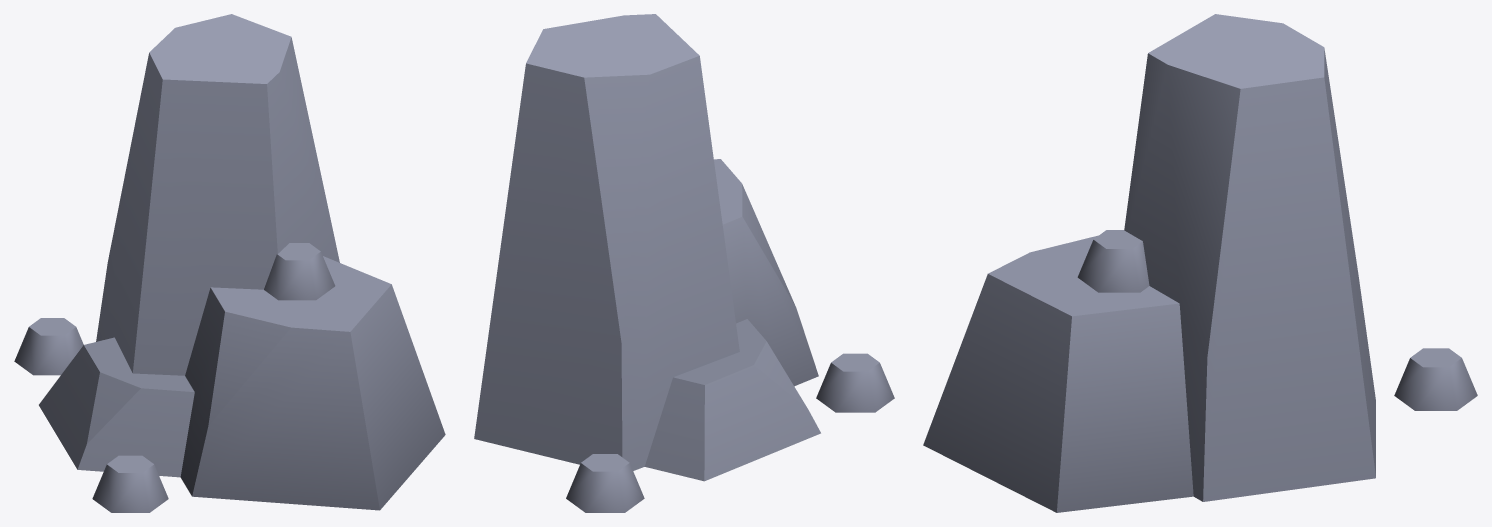
File: rock.glb
3 renders of one model, left to right at view 1: azimuth 30°, elevation 25°; view 2: azimuth 150°, elevation 25°; view 3: azimuth 270°, elevation 25°, orthographic. The views are drawn at different scales.
Parts seen in each view (by area): view 1: rock-small.001; view 2: rock-small.001; view 3: rock-small.001.
Part boxes in pixels (box(x1,y1,x2,y2)): rock-small.001: box(14, 14, 445, 512); rock-small.001: box(474, 14, 894, 512); rock-small.001: box(923, 14, 1477, 512).
Bounding box in the file's own units: 0.3993 × 0.408 × 0.5305.
